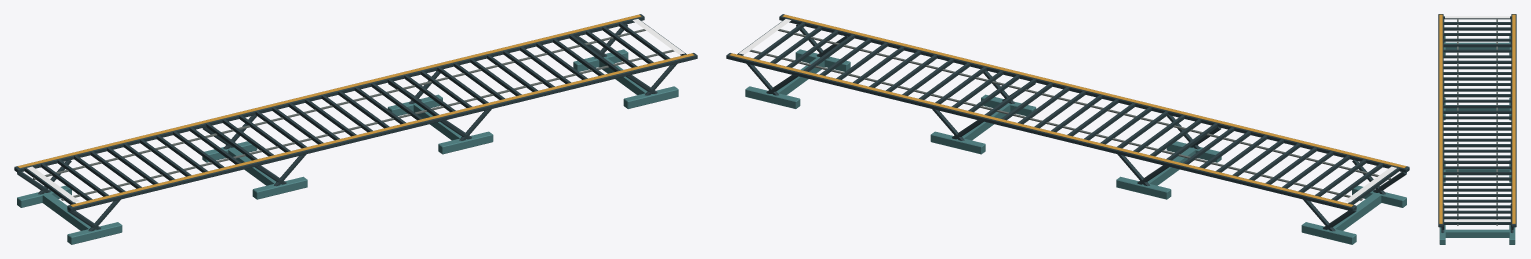
The model's file is core-radial-bridge.glb.
3 renders of one model, left to right at view 1: azimuth 30°, elevation 25°; view 2: azimuth 150°, elevation 25°; view 3: azimuth 270°, elevation 25°, orthographic. The views are drawn at different scales.
Visible parts, largest first — view 1: core-radial-bridge__core-radial-bridge__steel, core-radial-bridge__core-radial-bridge__petrol, core-radial-bridge__core-radial-bridge__amber, core-radial-bridge__core-radial-bridge__hardware, core-radial-bridge__core-radial-bridge__decal-hazard; view 2: core-radial-bridge__core-radial-bridge__steel, core-radial-bridge__core-radial-bridge__petrol, core-radial-bridge__core-radial-bridge__amber, core-radial-bridge__core-radial-bridge__hardware, core-radial-bridge__core-radial-bridge__decal-hazard; view 3: core-radial-bridge__core-radial-bridge__steel, core-radial-bridge__core-radial-bridge__petrol, core-radial-bridge__core-radial-bridge__amber, core-radial-bridge__core-radial-bridge__hardware, core-radial-bridge__core-radial-bridge__decal-hazard.
Part boxes in pixels (x1,y1,x2,y2): core-radial-bridge__core-radial-bridge__steel: (14, 14, 697, 231); core-radial-bridge__core-radial-bridge__petrol: (17, 49, 678, 244); core-radial-bridge__core-radial-bridge__amber: (17, 14, 694, 206); core-radial-bridge__core-radial-bridge__hardware: (33, 29, 674, 200); core-radial-bridge__core-radial-bridge__decal-hazard: (27, 19, 684, 202); core-radial-bridge__core-radial-bridge__steel: (726, 14, 1409, 231); core-radial-bridge__core-radial-bridge__petrol: (745, 49, 1406, 244); core-radial-bridge__core-radial-bridge__amber: (729, 14, 1406, 206); core-radial-bridge__core-radial-bridge__hardware: (749, 29, 1390, 200); core-radial-bridge__core-radial-bridge__decal-hazard: (739, 19, 1396, 202); core-radial-bridge__core-radial-bridge__steel: (1438, 14, 1516, 232); core-radial-bridge__core-radial-bridge__petrol: (1439, 36, 1515, 244); core-radial-bridge__core-radial-bridge__amber: (1439, 14, 1515, 223); core-radial-bridge__core-radial-bridge__hardware: (1457, 19, 1497, 225); core-radial-bridge__core-radial-bridge__decal-hazard: (1445, 16, 1509, 221).
Bounding box in the file's own units: 11.5 × 0.674 × 1.8.
